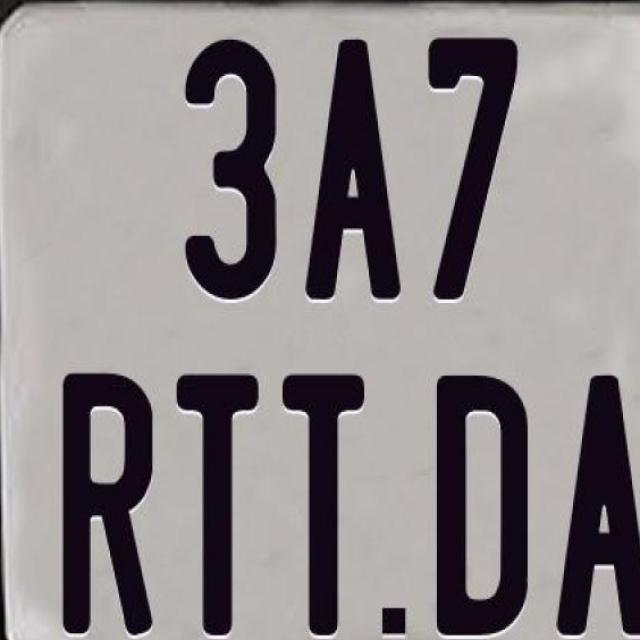license-plate: (2, 10, 640, 640)
